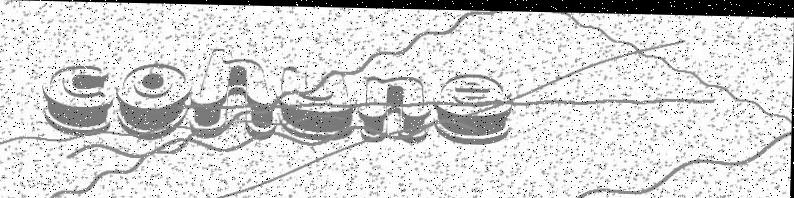c: (41, 62, 115, 137)
e: (433, 71, 513, 145)
h: (191, 45, 279, 140)
n: (358, 71, 433, 144)
o: (116, 60, 193, 140)
u: (279, 64, 358, 139)
